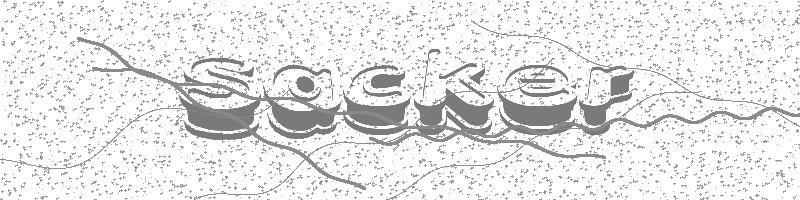a: (265, 64, 339, 140)
c: (343, 65, 412, 134)
e: (499, 65, 578, 135)
k: (414, 49, 494, 135)
r: (581, 65, 634, 134)
s: (180, 58, 259, 140)
